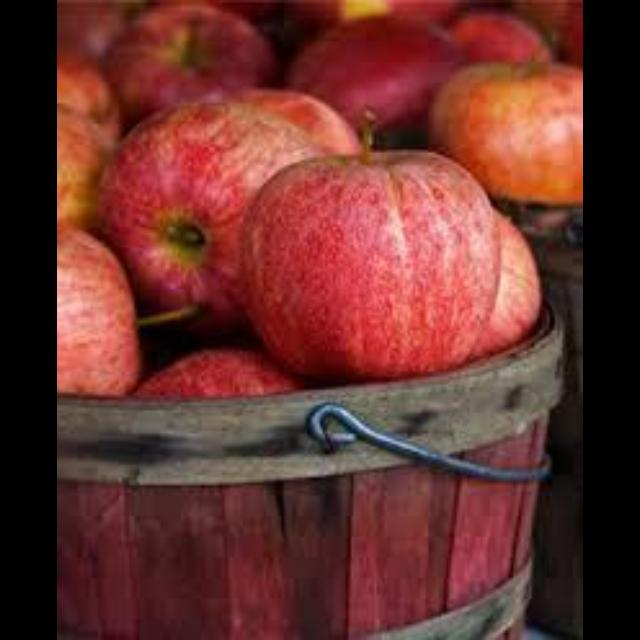apple: (240, 150, 498, 379), (101, 101, 323, 333), (429, 62, 581, 204), (103, 3, 276, 121), (287, 15, 465, 129), (57, 227, 140, 395), (472, 209, 540, 356), (134, 348, 300, 397), (238, 90, 356, 152), (57, 106, 109, 230), (57, 52, 119, 139), (449, 10, 550, 62)
